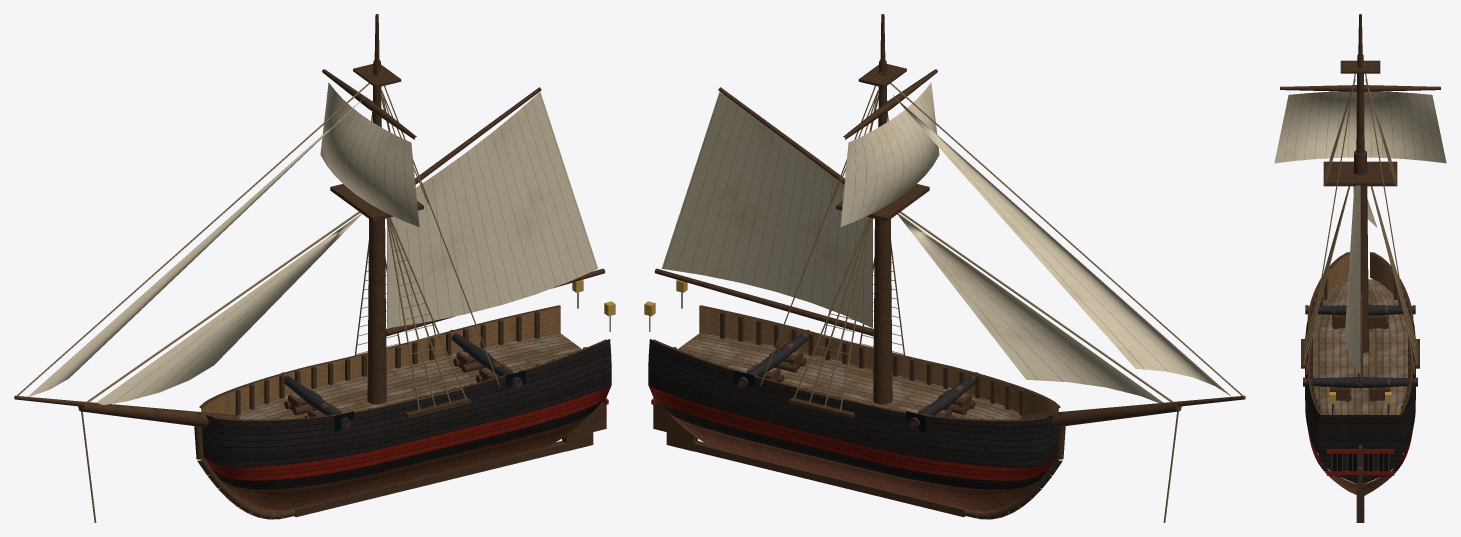
File: SM_Art_HostileSloop.gltf
3 renders of one model, left to right at view 1: azimuth 30°, elevation 25°; view 2: azimuth 150°, elevation 25°; view 3: azimuth 270°, elevation 25°, orthographic. The views are drawn at different scales.
Visible parts, largest first — view 1: SM_Art_HostileSloop; view 2: SM_Art_HostileSloop; view 3: SM_Art_HostileSloop.
Part boxes in pixels (x1,y1,x2,y2): SM_Art_HostileSloop: (14, 14, 615, 522); SM_Art_HostileSloop: (644, 14, 1245, 522); SM_Art_HostileSloop: (1274, 14, 1446, 522).
Size of the model in its own units: 20.83 by 16.21 by 6.06.
Materials: 11 (9 with a texture image).
